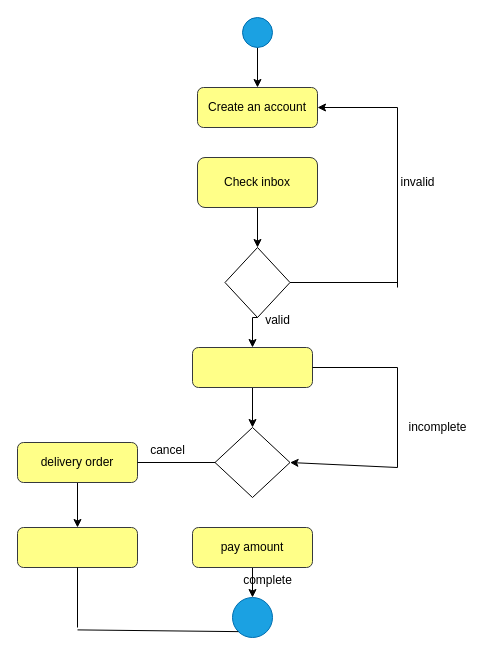
This 495x655 diagram has some shape labels left out. The centre of each missing label's shape, as x and y in pixels:
"Choose food items" goes at (x=252, y=367).
"send confirmation order" goes at (x=77, y=547).
